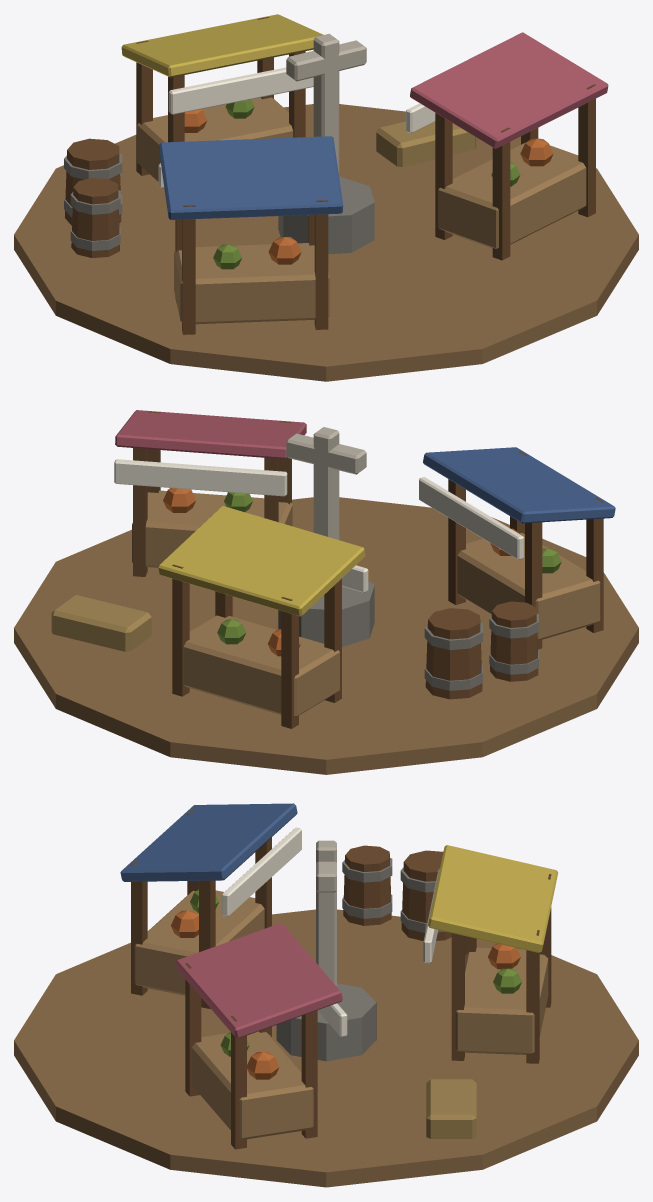
The model's file is world_market.fbx.
The picture shows the model from 3 angles, top to bottom: view 1: azimuth 30°, elevation 25°; view 2: azimuth 150°, elevation 25°; view 3: azimuth 270°, elevation 25°; orthographic projection.
Visible parts, largest first — view 1: Building; view 2: Building; view 3: Building.
Boxes of the visible parts, <box> form: Building: <box>14,14,638,381</box>; Building: <box>14,410,638,774</box>; Building: <box>14,803,638,1187</box>.
Size of the model in its own units: 1.5 by 1.5 by 0.56.
